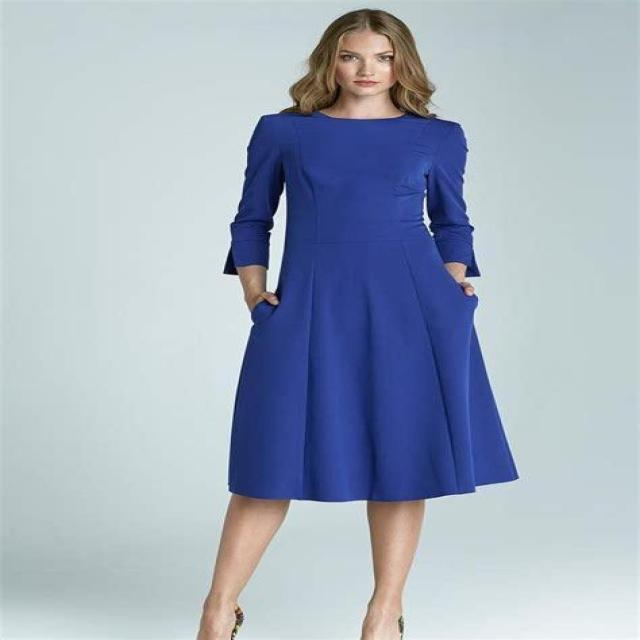dress: (226, 102, 521, 502)
